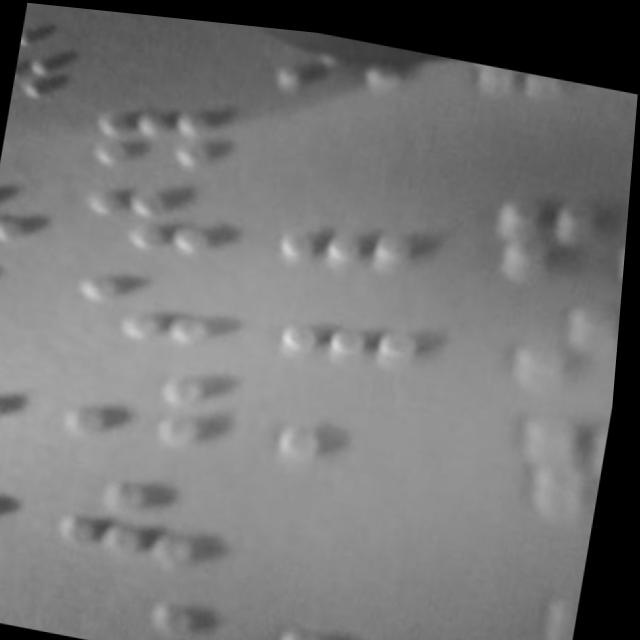braiile: (47, 456, 229, 577), (54, 345, 230, 459), (276, 258, 439, 372), (64, 245, 231, 356), (481, 171, 632, 290), (275, 166, 435, 278), (272, 373, 434, 479), (74, 164, 239, 264), (86, 85, 244, 186), (502, 277, 625, 393), (501, 393, 616, 507)
